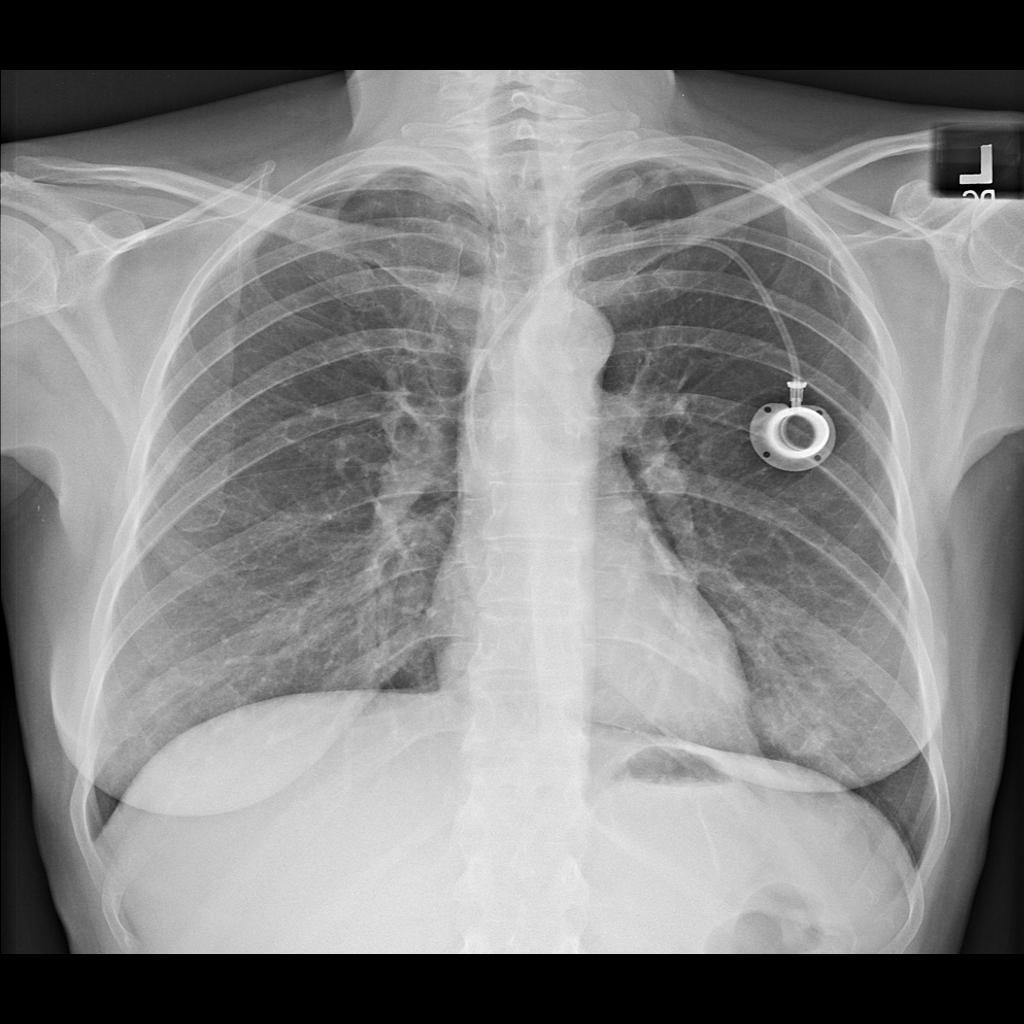Nodule: (752, 677, 841, 768)
